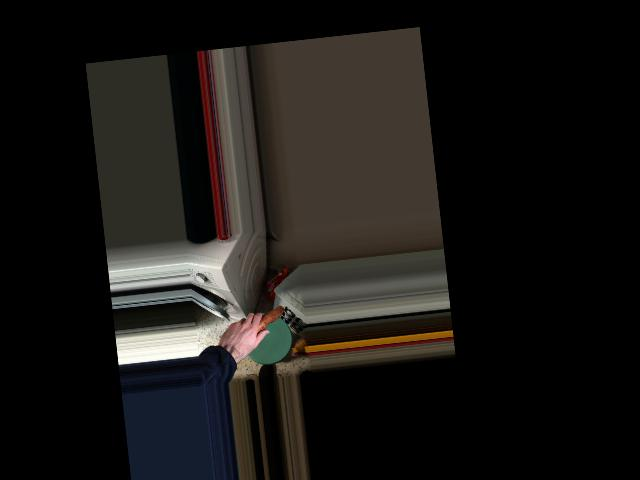sweet_potato: (231, 305, 285, 349)
